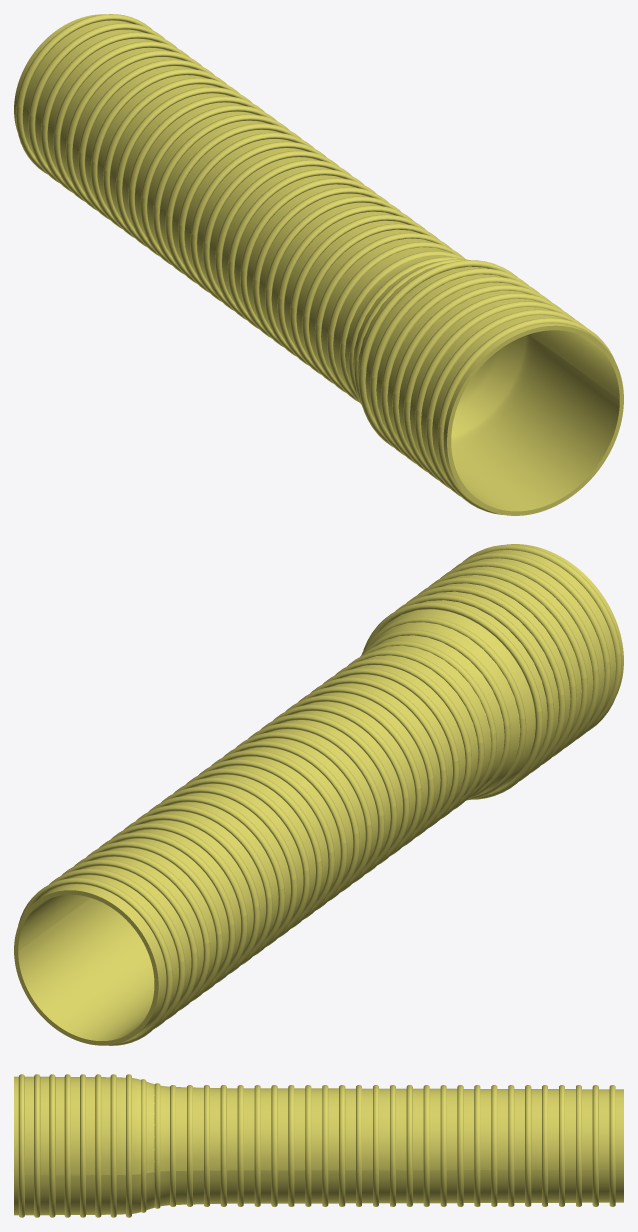
The model's file is durafort.fbx.
3 renders of one model, top to bottom at view 1: azimuth 30°, elevation 25°; view 2: azimuth 150°, elevation 25°; view 3: azimuth 270°, elevation 25°, orthographic. The views are drawn at different scales.
Parts seen in each view (by area): view 1: Objeto_38, Objeto_30, Objeto_37, Objeto_31, Objeto_32, Objeto_33, Objeto_34, Objeto_35, Objeto_36, Objeto_9, Objeto_2, Objeto_4 (+26 smaller); view 2: Objeto_38, Objeto_30, Objeto_1, Objeto_31, Objeto_32, Objeto_29, Objeto_33, Objeto_34, Objeto_35, Objeto_36, Objeto_37, Objeto_2 (+26 smaller); view 3: Objeto_38, Objeto_31, Objeto_32, Objeto_34, Objeto_35, Objeto_36, Objeto_37, Objeto_28, Objeto_30, Objeto_33, Objeto_1, Objeto_7 (+26 smaller).
Part boxes in pixels (x1,y1,x2,y2): Objeto_38: (14, 14, 623, 515); Objeto_30: (358, 260, 517, 446); Objeto_37: (437, 318, 614, 514); Objeto_31: (370, 268, 528, 455); Objeto_32: (381, 276, 539, 463); Objeto_33: (392, 285, 550, 472); Objeto_34: (403, 293, 562, 480); Objeto_35: (415, 301, 574, 488); Objeto_36: (426, 309, 585, 496); Objeto_9: (115, 87, 251, 247); Objeto_2: (28, 23, 164, 183); Objeto_4: (53, 41, 189, 201); Objeto_38: (14, 544, 623, 1045); Objeto_30: (363, 602, 542, 799); Objeto_1: (18, 877, 173, 1045); Objeto_31: (395, 594, 554, 781); Objeto_32: (407, 586, 565, 773); Objeto_29: (361, 616, 526, 800); Objeto_33: (418, 577, 576, 764); Objeto_34: (429, 569, 587, 756); Objeto_35: (440, 561, 599, 747); Objeto_36: (451, 553, 610, 739); Objeto_37: (463, 544, 621, 731); Objeto_2: (42, 868, 185, 1031); Objeto_38: (14, 1076, 623, 1215); Objeto_31: (110, 1074, 116, 1217); Objeto_32: (95, 1074, 101, 1217); Objeto_34: (64, 1074, 70, 1217); Objeto_35: (49, 1074, 55, 1217); Objeto_36: (34, 1074, 40, 1217); Objeto_37: (18, 1074, 24, 1217); Objeto_28: (154, 1083, 160, 1208); Objeto_30: (126, 1074, 131, 1217); Objeto_33: (80, 1074, 85, 1217); Objeto_1: (609, 1085, 615, 1206); Objeto_7: (508, 1085, 514, 1206).
Bounding box in the file's own units: 128 × 128 × 544.
